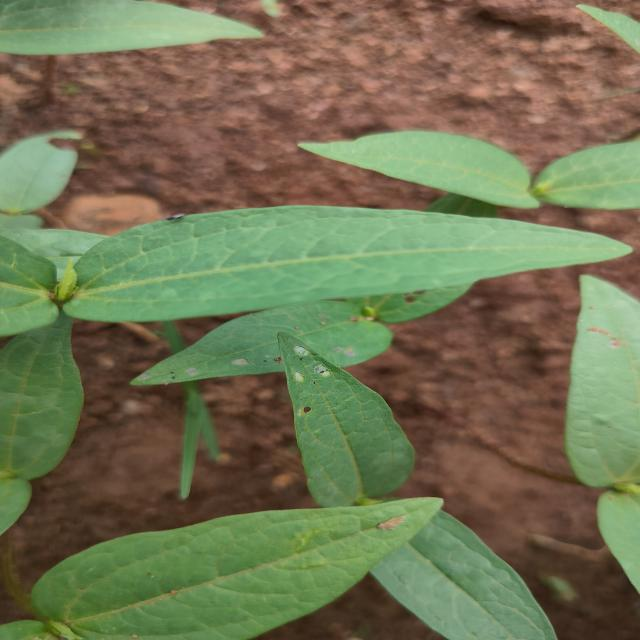Black gram_healthy: (62, 205, 627, 318), (34, 499, 445, 637), (269, 334, 420, 502), (136, 296, 397, 390)
